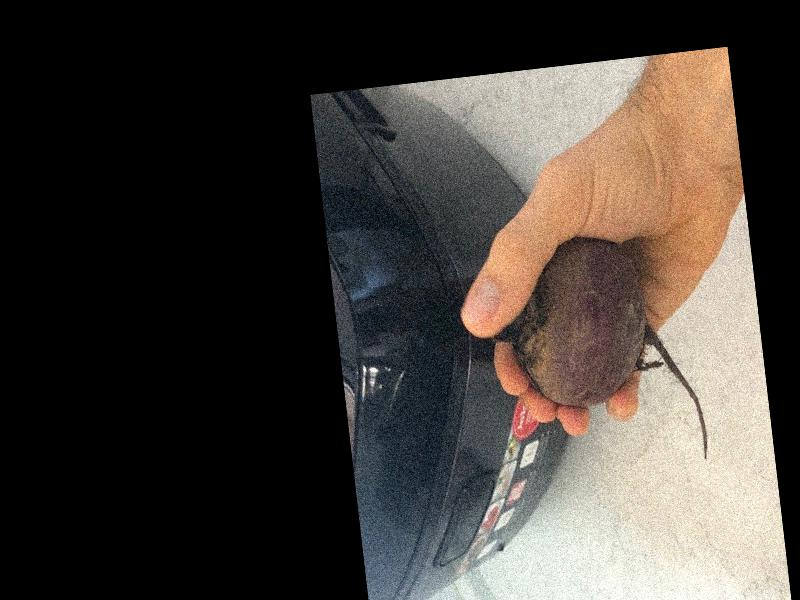Beet: (483, 226, 709, 481)
